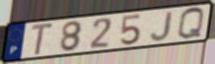2: (88, 17, 113, 50)
5: (118, 13, 143, 47)
8: (60, 20, 84, 53)
J: (149, 11, 174, 43)
Q: (176, 6, 206, 42)
T: (30, 21, 56, 58)
